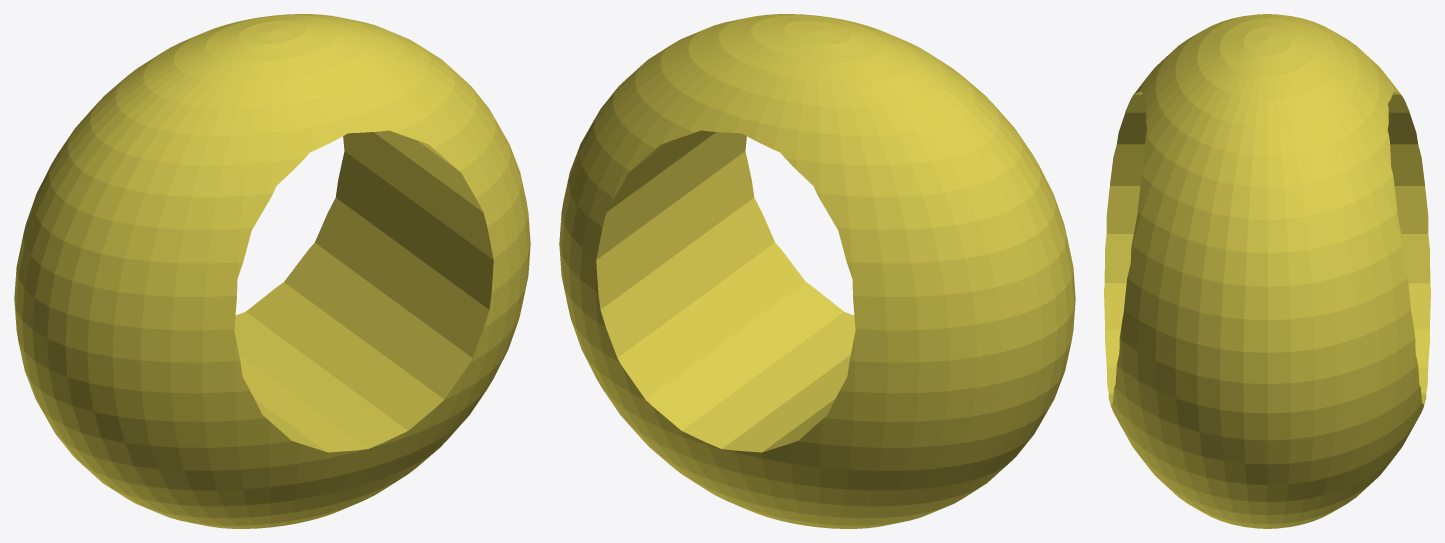
The model's file is gamecoin.glb.
3 renders of one model, left to right at view 1: azimuth 30°, elevation 25°; view 2: azimuth 150°, elevation 25°; view 3: azimuth 270°, elevation 25°, orthographic. The views are drawn at different scales.
Parts seen in each view (by area): view 1: Mesh_Mesh_head_geo.001_lambert2SG.001; view 2: Mesh_Mesh_head_geo.001_lambert2SG.001; view 3: Mesh_Mesh_head_geo.001_lambert2SG.001.
Boxes of the visible parts, box(x1,y1,x2,y2) form: Mesh_Mesh_head_geo.001_lambert2SG.001: box(14, 14, 530, 528); Mesh_Mesh_head_geo.001_lambert2SG.001: box(559, 14, 1075, 528); Mesh_Mesh_head_geo.001_lambert2SG.001: box(1104, 14, 1430, 528).
Bounding box in the file's own units: 25 × 24 × 15.33.
